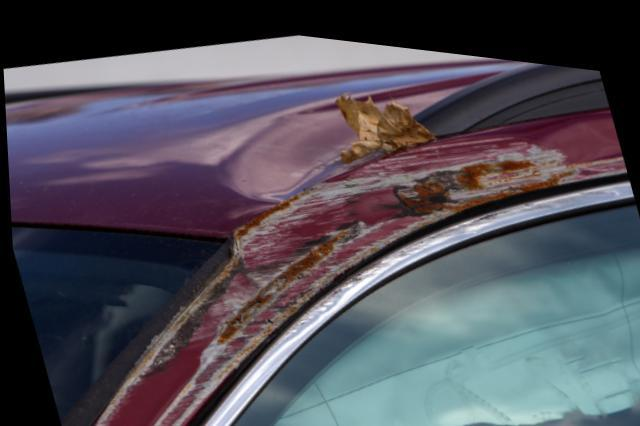dent: (225, 102, 357, 193)
scratch: (85, 112, 626, 426)
